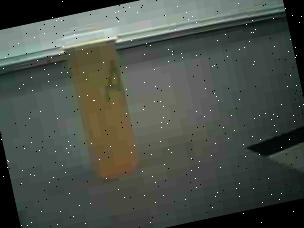Bottle A: (55, 18, 159, 196)
